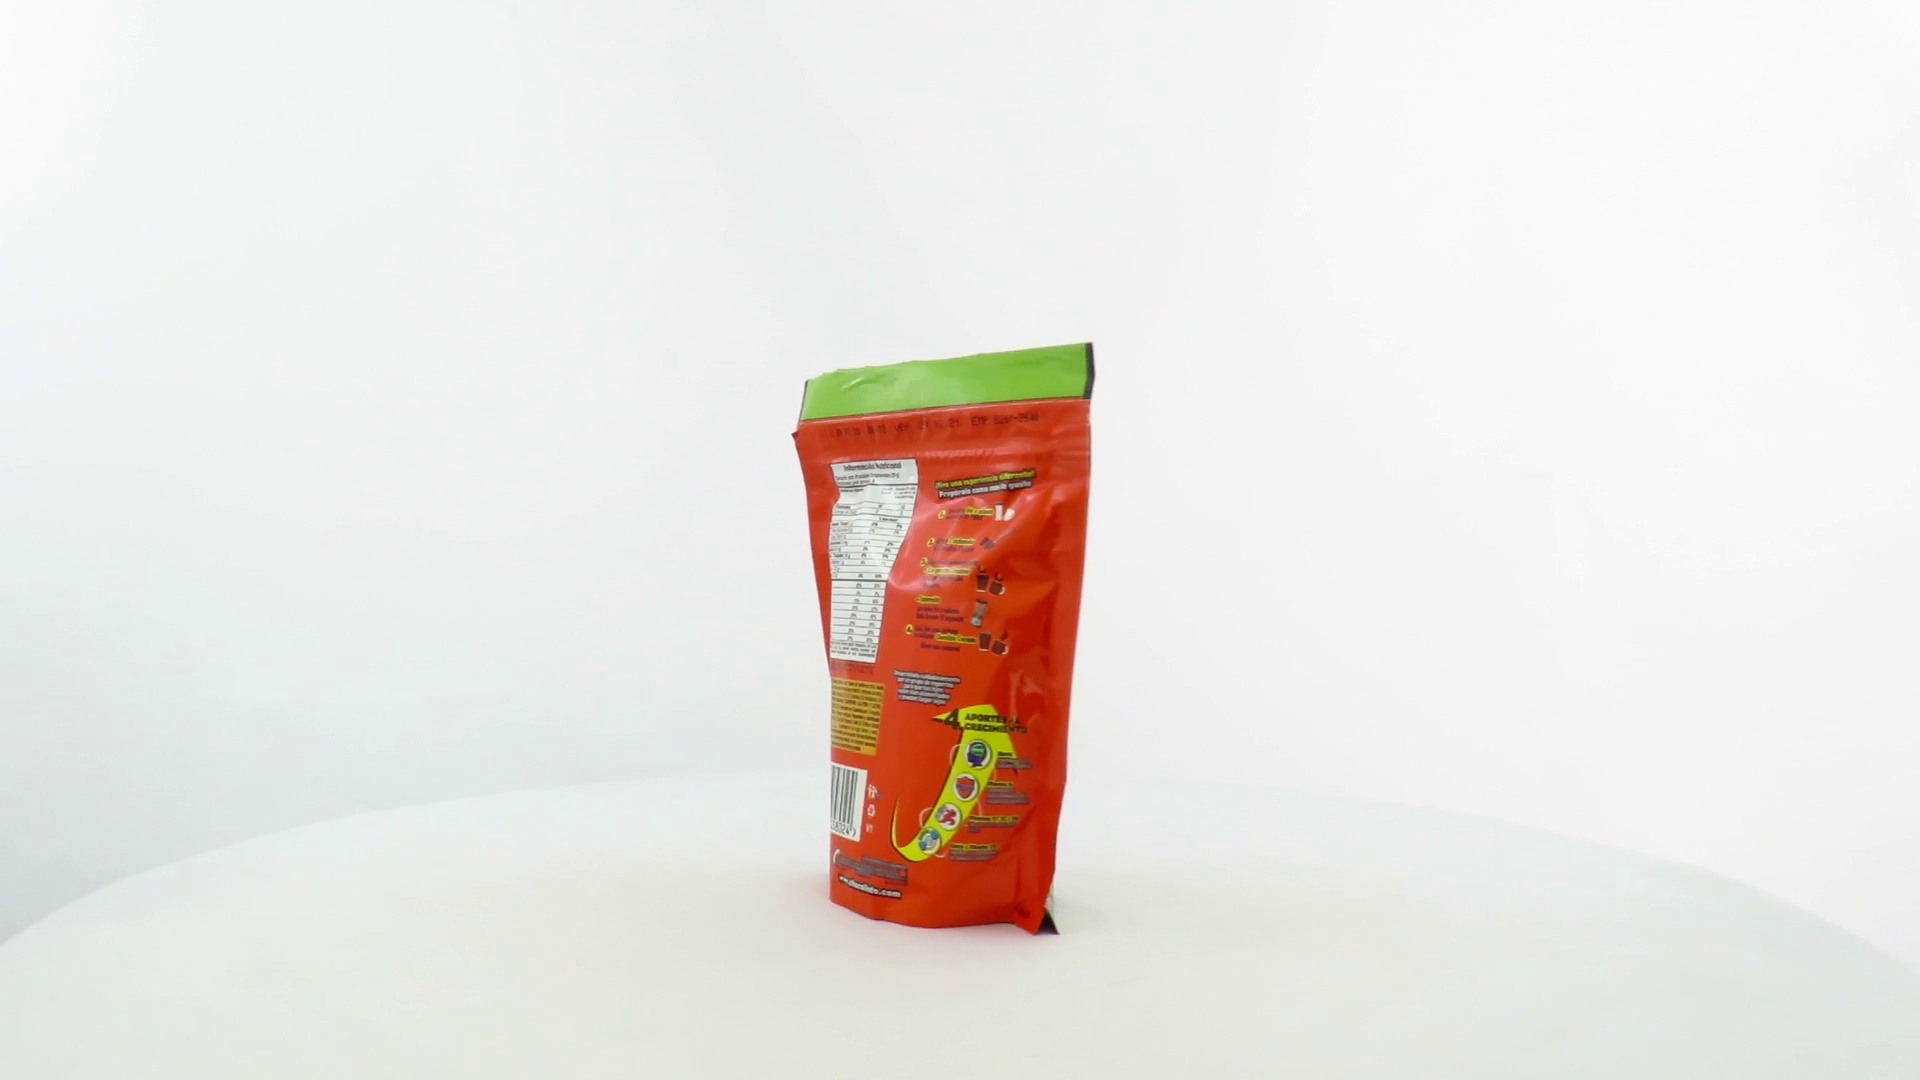COL0170102DYP10000: (786, 338, 1101, 942)
